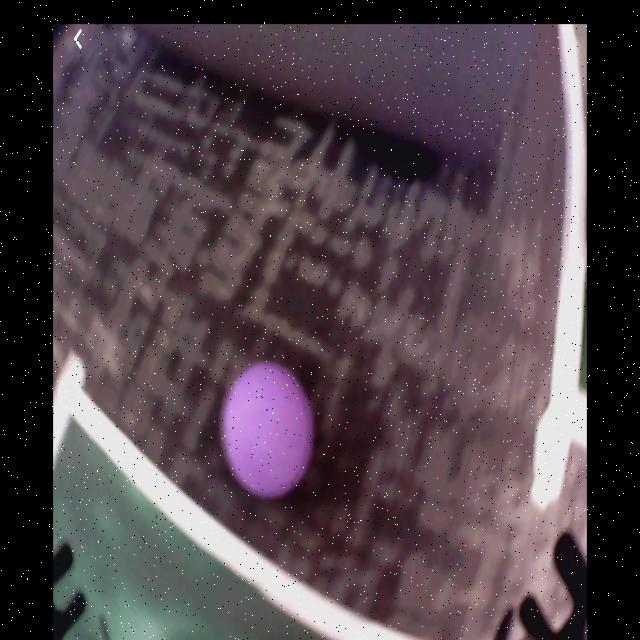ball: (221, 357, 316, 500)
